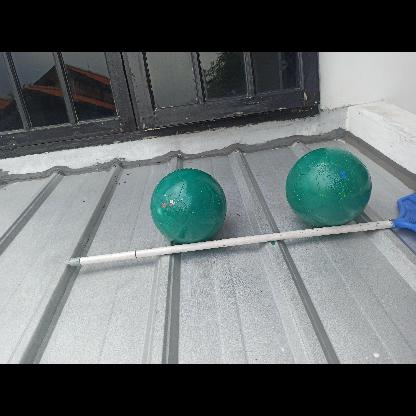green_ball: (285, 144, 371, 230), (151, 167, 223, 239)
